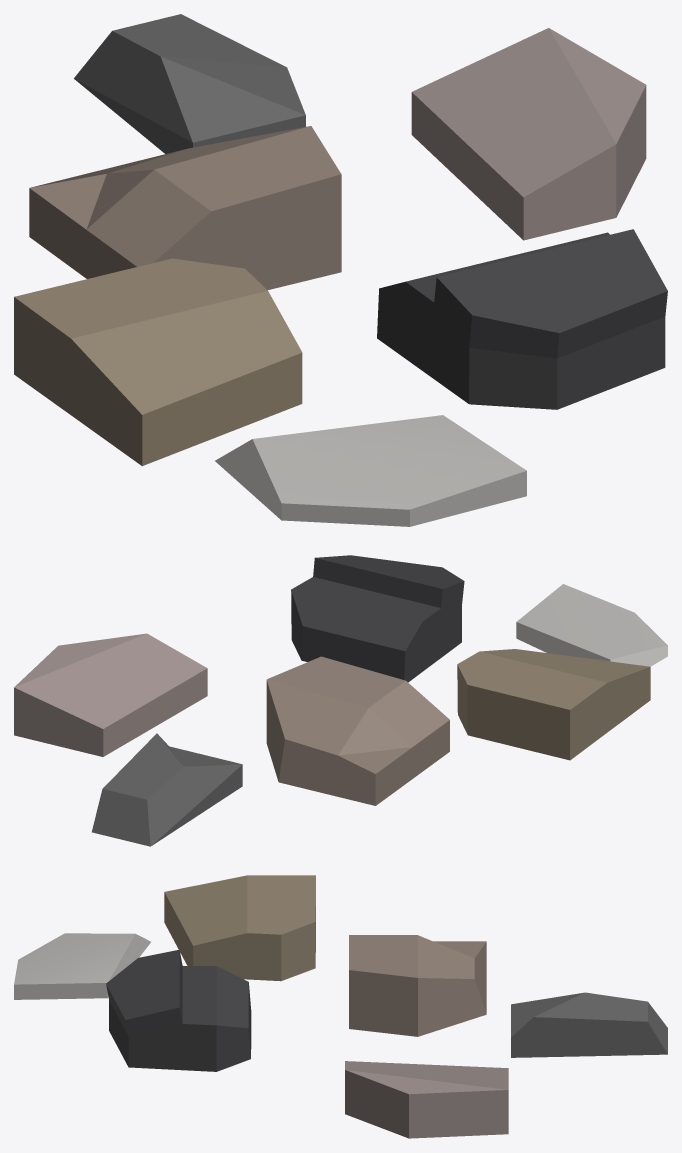
Rendered from rocks_assorted.fbx.
3 views of the same model, one above another, from view 1: azimuth 30°, elevation 25°; view 2: azimuth 150°, elevation 25°; view 3: azimuth 270°, elevation 25° (orthographic). The views are drawn at different scales.
Parts seen in each view (by area): view 1: rock1, rock2, rock5, rock4, rock3, rock6; view 2: rock5, rock2, rock4, rock1, rock6, rock3; view 3: rock2, rock1, rock5, rock4, rock6, rock3.
Boxes of the visible parts, x1=… form: rock1: x1=14, y1=258, x2=302, y2=466; rock2: x1=377, y1=229, x2=667, y2=409; rock5: x1=29, y1=126, x2=341, y2=289; rock4: x1=411, y1=28, x2=646, y2=240; rock3: x1=215, y1=415, x2=526, y2=526; rock6: x1=74, y1=14, x2=305, y2=153; rock5: x1=266, y1=656, x2=449, y2=805; rock2: x1=291, y1=555, x2=464, y2=682; rock4: x1=14, y1=633, x2=207, y2=756; rock1: x1=457, y1=649, x2=650, y2=760; rock6: x1=92, y1=733, x2=242, y2=846; rock3: x1=516, y1=584, x2=667, y2=666; rock2: x1=106, y1=949, x2=251, y2=1071; rock1: x1=164, y1=875, x2=315, y2=981; rock5: x1=349, y1=935, x2=486, y2=1036; rock4: x1=345, y1=1061, x2=508, y2=1138; rock6: x1=511, y1=992, x2=667, y2=1057; rock3: x1=14, y1=933, x2=150, y2=999.
Bounding box in the file's own units: 3.58 × 0.5733 × 4.76.
